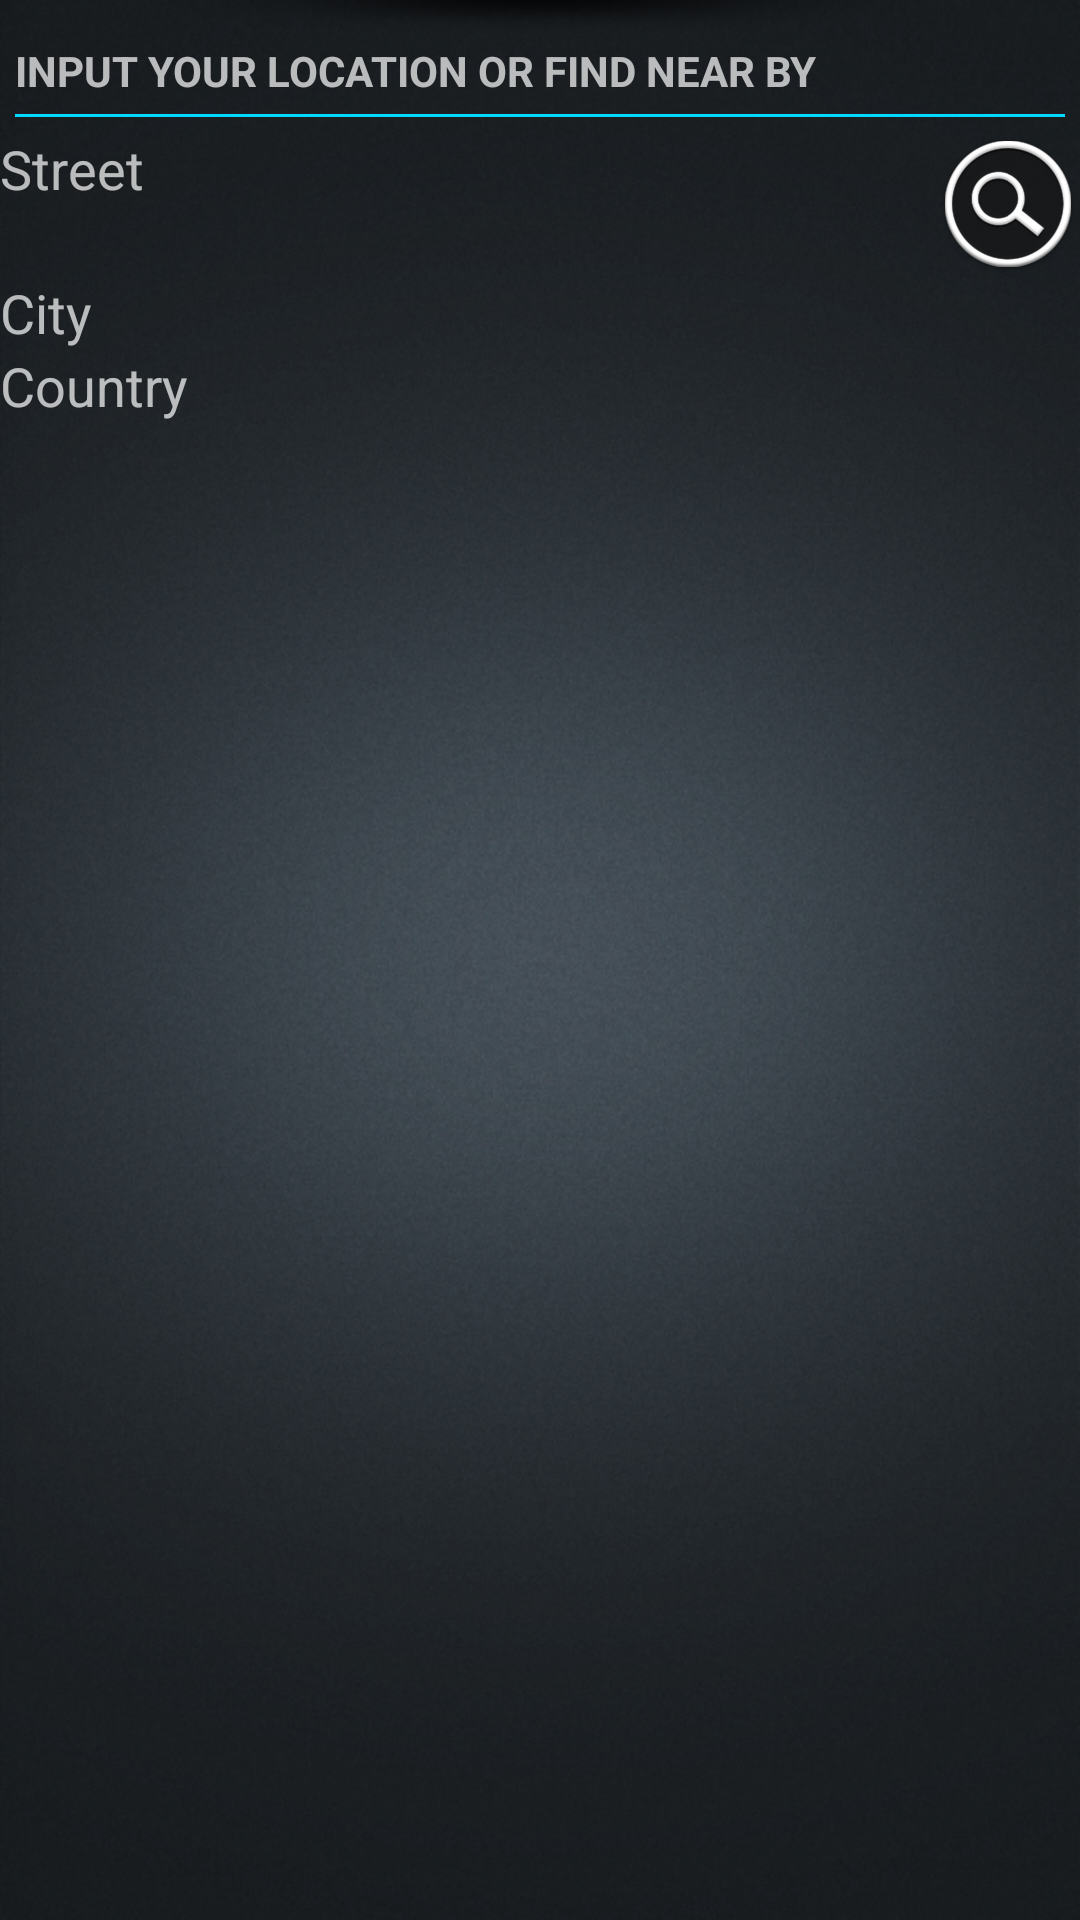

Icon bounding boxes for this 1080x1920 phone screenshot, format [left=x1, top=y1, right=x2, bottom=y2]:
search: [left=945, top=141, right=1071, bottom=267]
